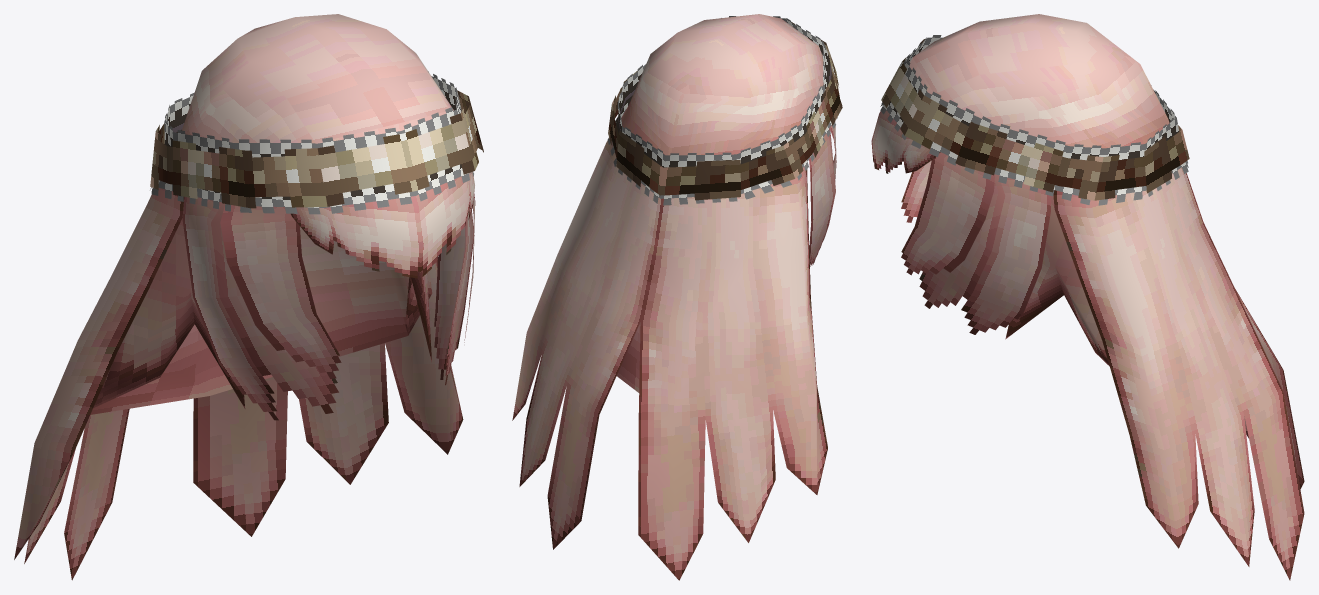
The model's file is f_hair249.glb.
The picture shows the model from 3 angles, left to right: view 1: azimuth 30°, elevation 25°; view 2: azimuth 150°, elevation 25°; view 3: azimuth 270°, elevation 25°; orthographic projection. The views are drawn at different scales.
Bounding box in the file's own units: 35.2 × 50.26 × 37.82.
1 material, 1 textured.
